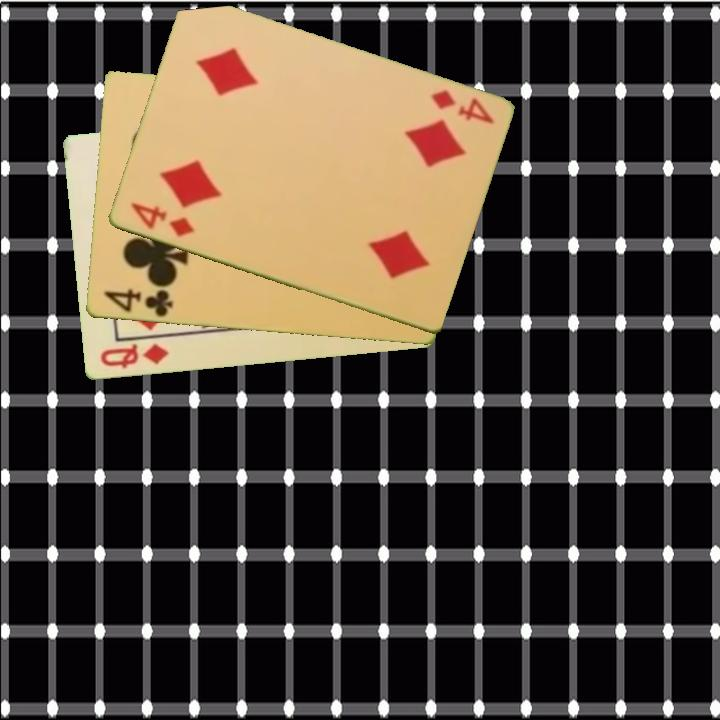4c: (100, 286, 176, 320)
4d: (126, 199, 197, 241), (426, 86, 497, 127)
Qd: (96, 340, 172, 372)
